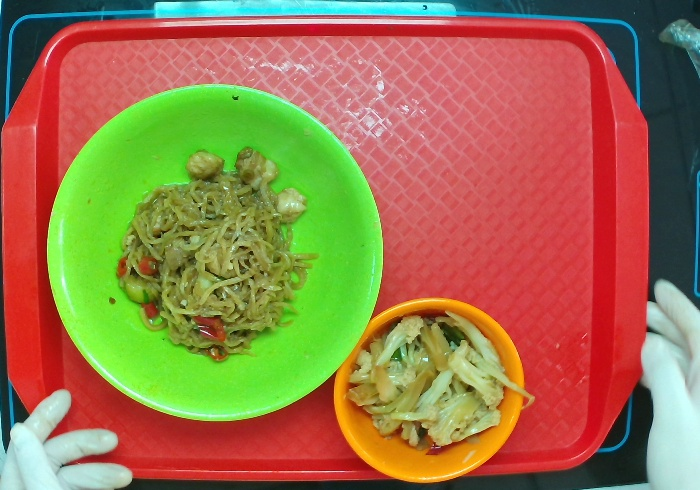YKMZ-Ju_Se_Yuan_Wan: (330, 290, 534, 490)
YKMZ-Lv_Se_Tang_Wan: (41, 82, 388, 429)
